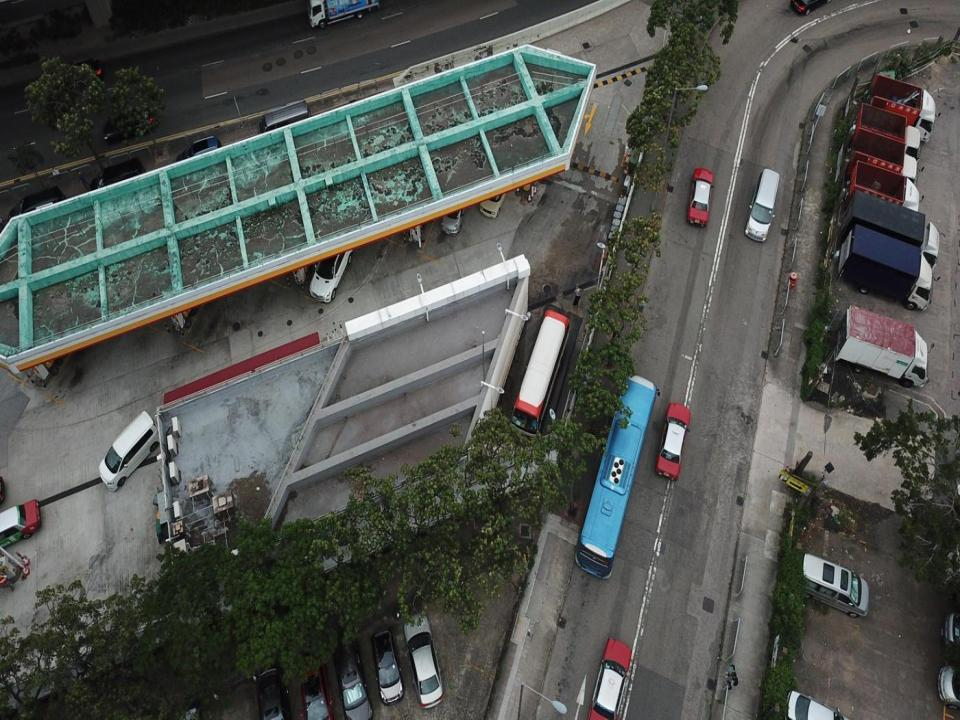bus: (574, 373, 659, 580), (507, 308, 570, 438)
car: (796, 546, 871, 620), (97, 406, 157, 494), (402, 605, 442, 709), (249, 643, 300, 719), (587, 638, 633, 719), (330, 631, 371, 719), (307, 238, 355, 304), (742, 165, 780, 243), (6, 183, 64, 234), (371, 622, 404, 707), (656, 400, 690, 482), (85, 156, 147, 197), (294, 653, 329, 719), (784, 686, 850, 719), (0, 497, 42, 547), (100, 109, 154, 143), (480, 169, 516, 219), (685, 164, 714, 226), (174, 132, 222, 166), (937, 654, 960, 715), (438, 190, 466, 238), (935, 602, 960, 653)
truck: (834, 299, 928, 394), (837, 224, 938, 311), (839, 191, 940, 278), (856, 69, 936, 151), (851, 100, 922, 174), (848, 128, 918, 198), (850, 159, 921, 217)
van: (252, 98, 310, 146)
